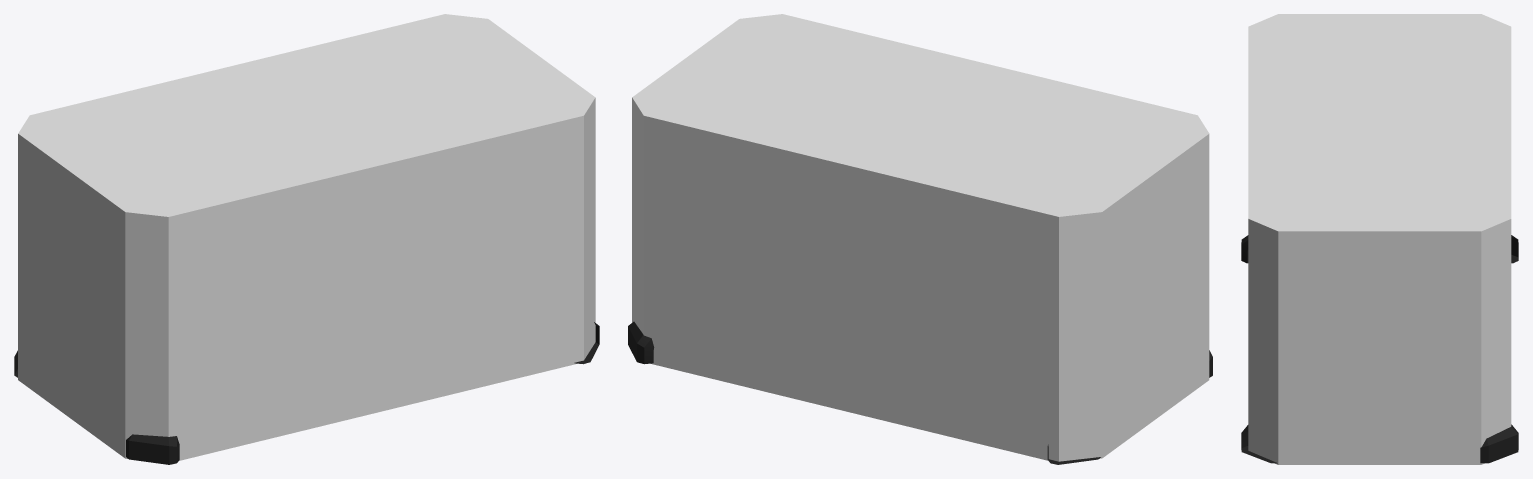
The model's file is ArenaCrateBlue.fbx.
3 views of the same model, side by side, from view 1: azimuth 30°, elevation 25°; view 2: azimuth 150°, elevation 25°; view 3: azimuth 270°, elevation 25° (orthographic). The views are drawn at different scales.
Visible parts, largest first — view 1: Cube.001, Container; view 2: Cube.001, Container; view 3: Cube.001, Container.
Part boxes in pixels (x1,y1,x2,y2): Cube.001: [18, 14, 595, 460]; Container: [14, 322, 599, 464]; Cube.001: [632, 14, 1209, 461]; Container: [628, 321, 1212, 464]; Cube.001: [1248, 14, 1511, 464]; Container: [1241, 235, 1518, 463].
Bounding box in the file's own units: 501 × 251 × 270.
